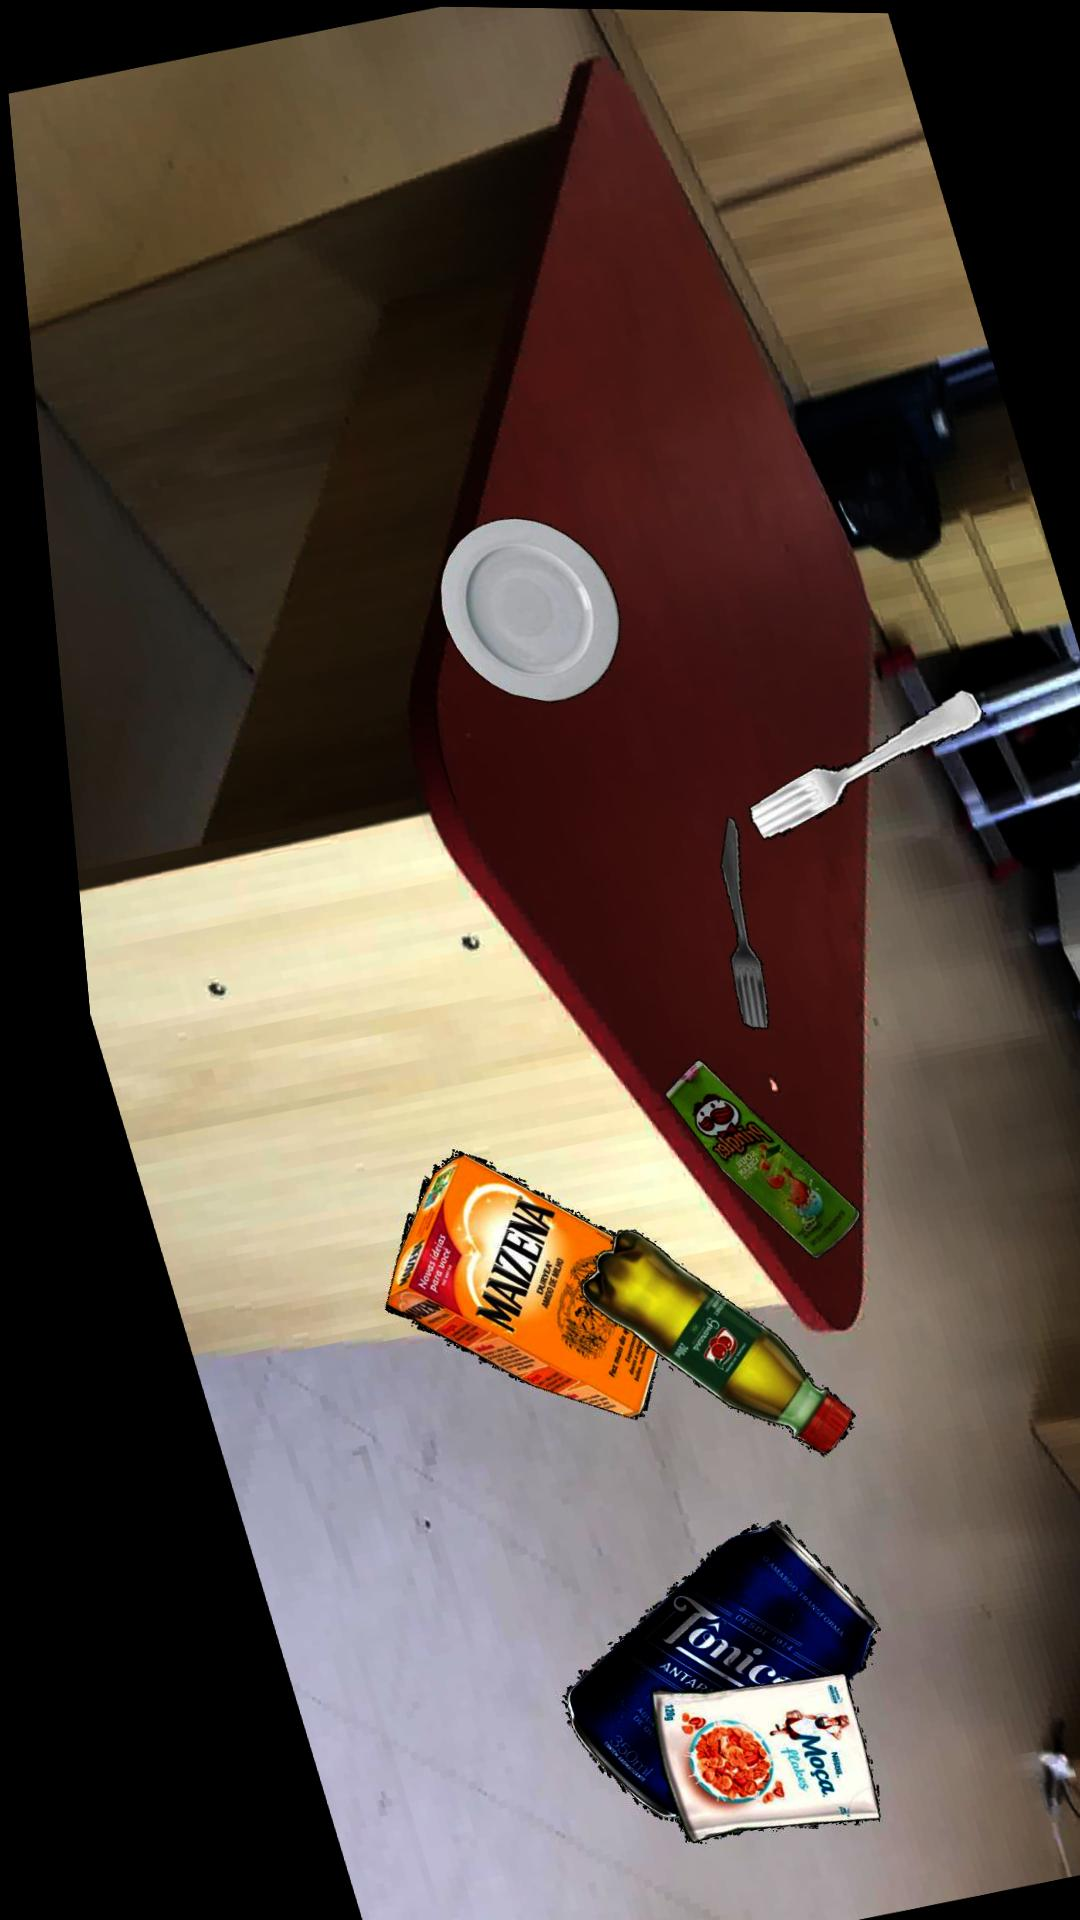corn flakes: (618, 1673, 844, 1844)
fork: (732, 688, 969, 840), (703, 816, 749, 1030)
guarana: (555, 1230, 828, 1456)
plate: (427, 517, 608, 703)
pringles: (644, 1059, 836, 1258)
